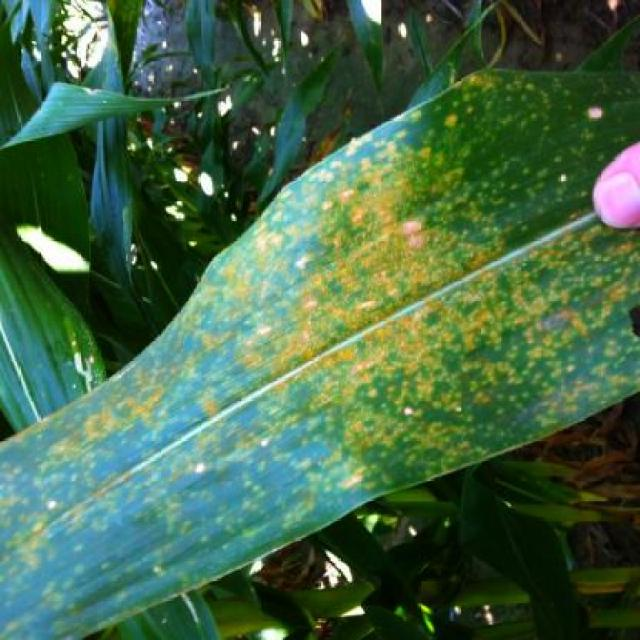Corn_Rust: (0, 90, 514, 636)
